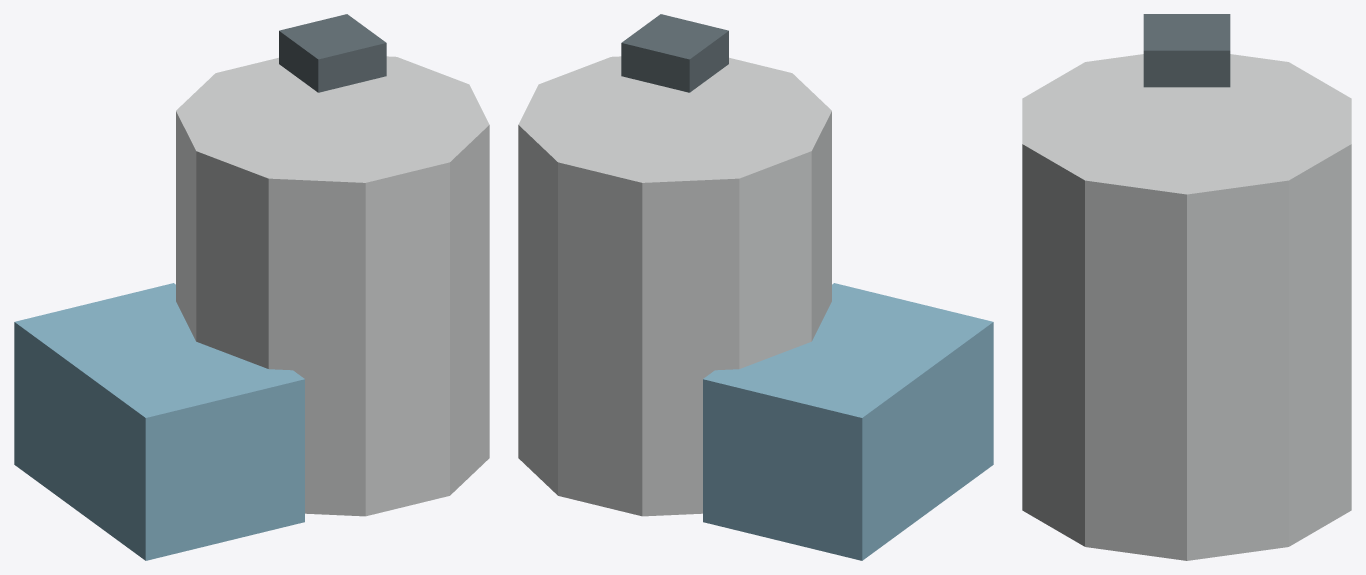
The model's file is welding_station.glb.
3 renders of one model, left to right at view 1: azimuth 30°, elevation 25°; view 2: azimuth 150°, elevation 25°; view 3: azimuth 270°, elevation 25°, orthographic. The views are drawn at different scales.
Size of the model in its own units: 0.855 by 0.87 by 0.5706.
